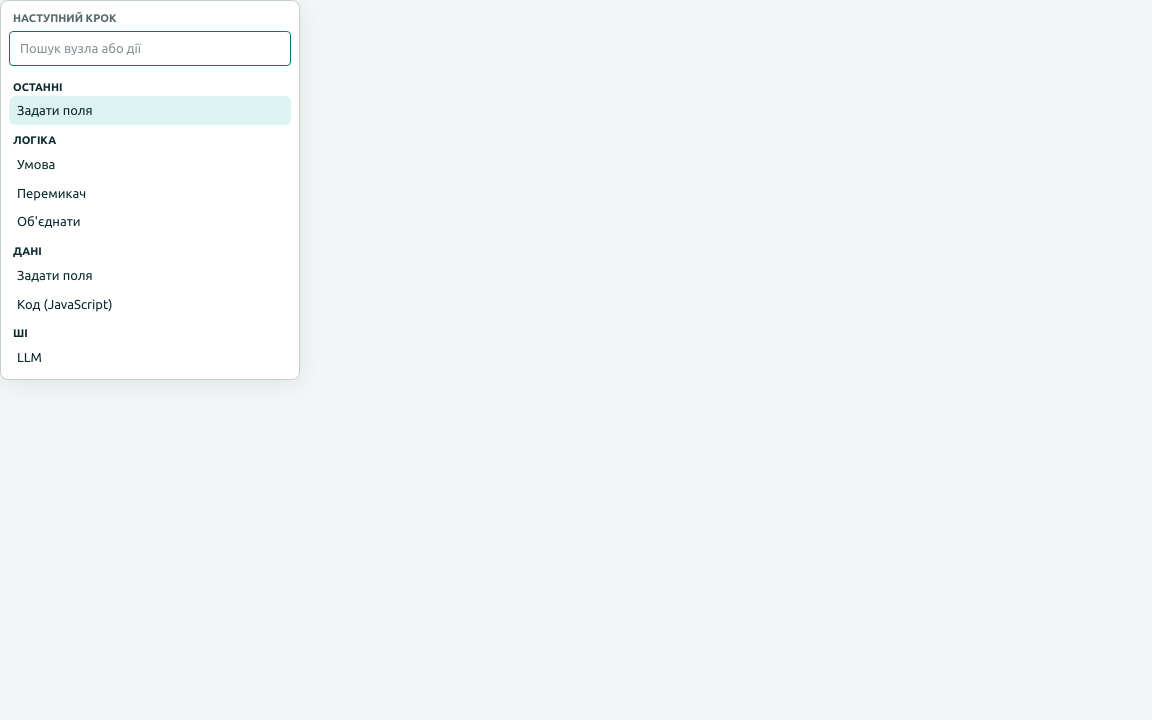
it: QuickAddComponent › «Останні» першими; тригерів у режимі кроку немає; порожній пошук — повідомлення
Expected: the text "Останні" is shown, left=13, top=81, right=62, bottom=93
Type "нема такого" into the search field with test id "quick-add-search" at (150, 49), box left=9, top=31, right=291, bottom=66
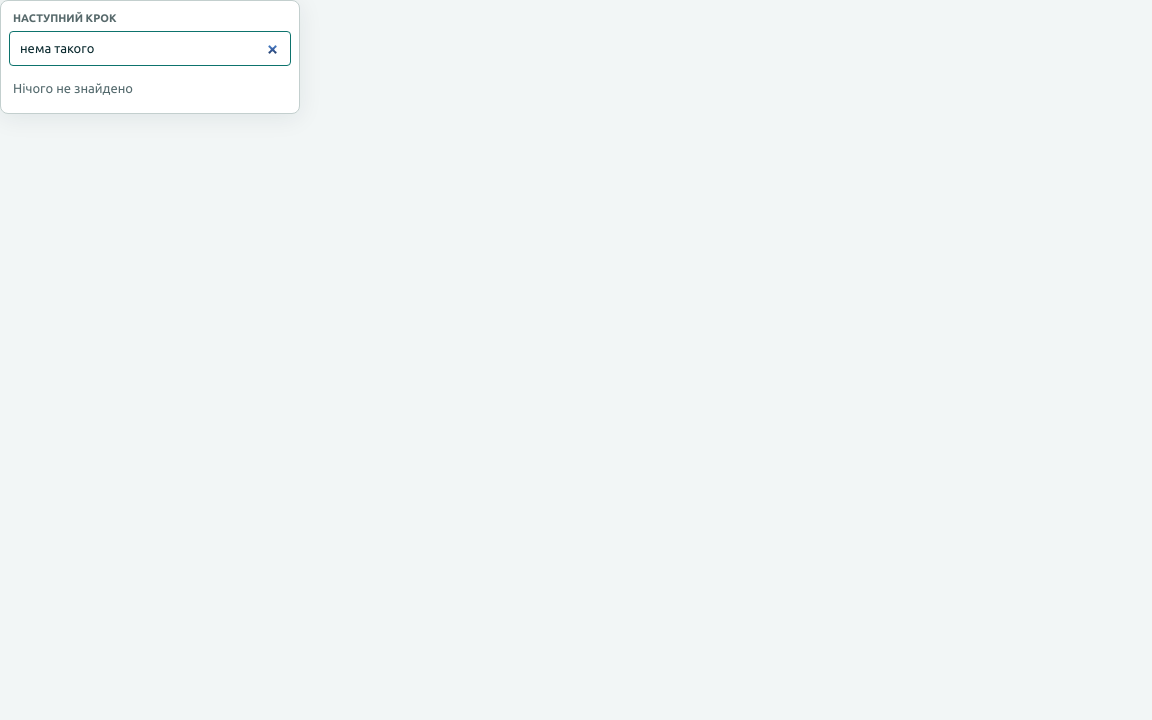
Now the text "Нічого не знайдено" is shown, box left=13, top=81, right=133, bottom=95
